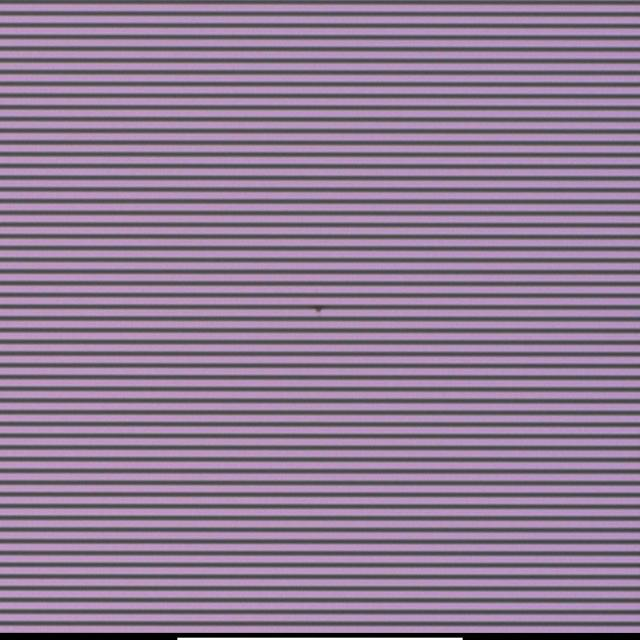03_intrusion: (315, 299, 323, 317)
